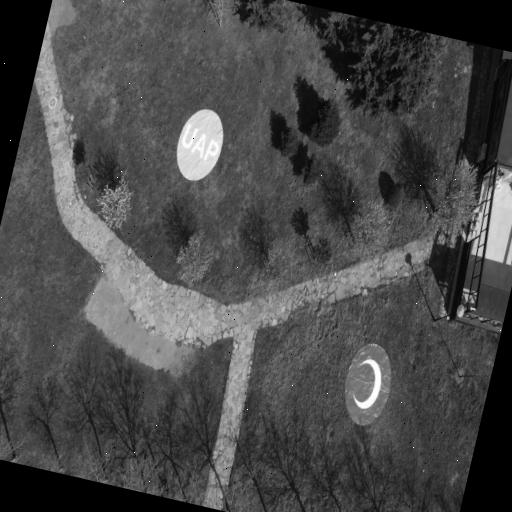UAP: (345, 343, 391, 426)
car: (177, 109, 223, 180)
